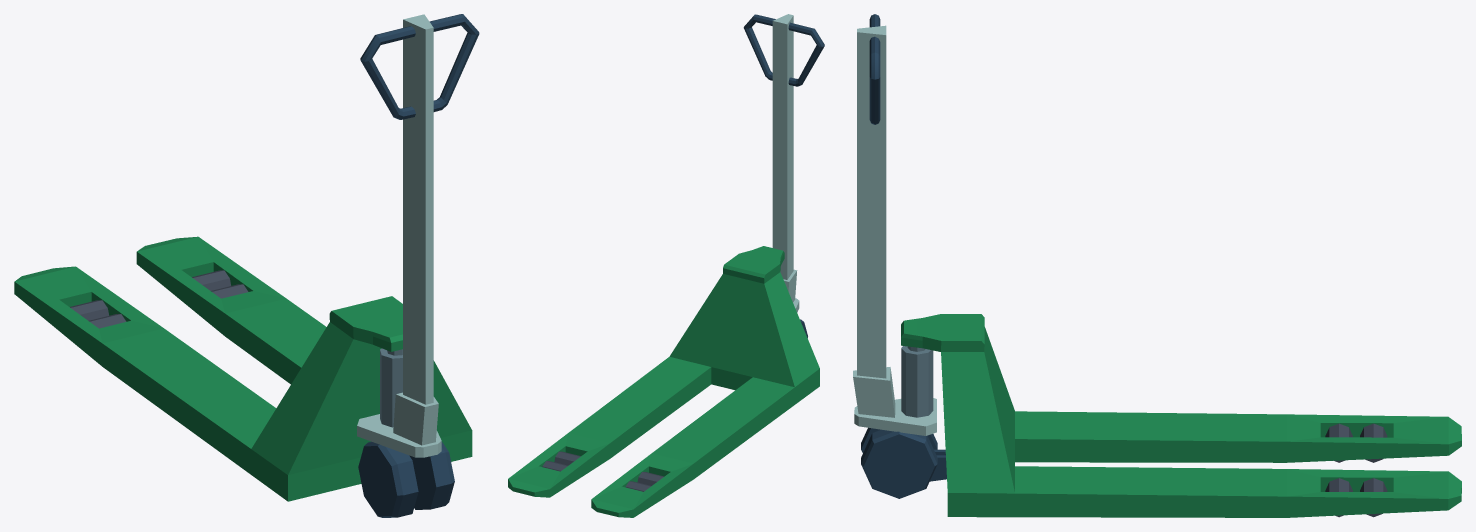
The model's file is Prop_Pallet_Truck_.fbx.
The picture shows the model from 3 angles, left to right: view 1: azimuth 30°, elevation 25°; view 2: azimuth 150°, elevation 25°; view 3: azimuth 270°, elevation 25°; orthographic projection. The views are drawn at different scales.
Visible parts, largest first — view 1: Prop_Pallet_Truck; view 2: Prop_Pallet_Truck; view 3: Prop_Pallet_Truck.
Part boxes in pixels (left/top/right/bottom): Prop_Pallet_Truck: left=14, top=14, right=479, bottom=517; Prop_Pallet_Truck: left=508, top=14, right=824, bottom=517; Prop_Pallet_Truck: left=853, top=14, right=1461, bottom=517.
Bounding box in the file's own units: 153 × 48.96 × 127.
